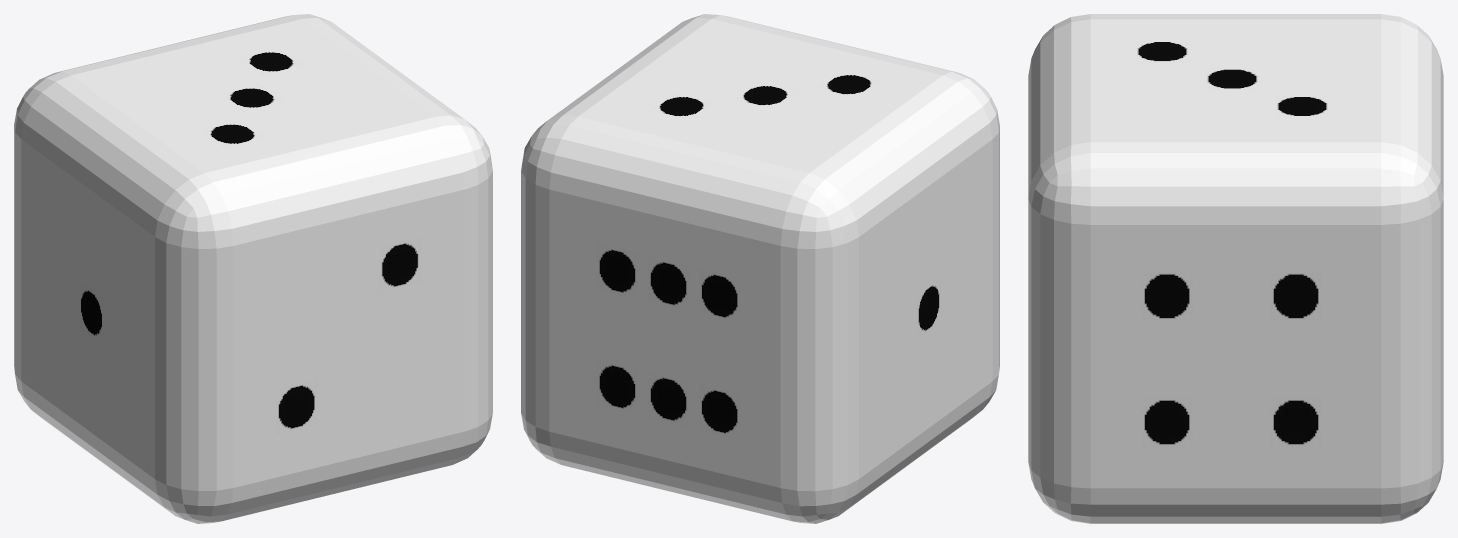
File: die.glb
3 renders of one model, left to right at view 1: azimuth 30°, elevation 25°; view 2: azimuth 150°, elevation 25°; view 3: azimuth 270°, elevation 25°, orthographic. The views are drawn at different scales.
Visible parts, largest first — view 1: Cube.001; view 2: Cube.001; view 3: Cube.001.
Part boxes in pixels (x1,y1,x2,y2): Cube.001: (14, 14, 492, 523); Cube.001: (521, 14, 999, 523); Cube.001: (1028, 14, 1443, 523).
Bounding box in the file's own units: 0.6466 × 0.6466 × 0.6466.
1 material, 1 textured.
